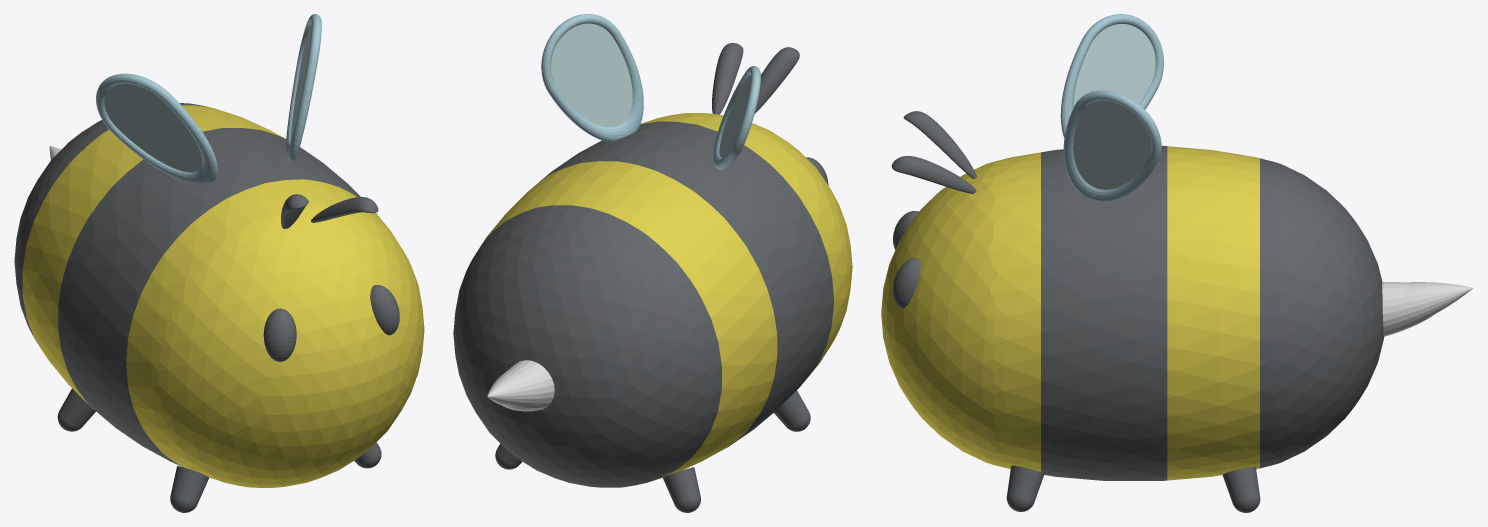
The model's file is bee.glb.
3 renders of one model, left to right at view 1: azimuth 30°, elevation 25°; view 2: azimuth 150°, elevation 25°; view 3: azimuth 270°, elevation 25°, orthographic. The views are drawn at different scales.
Parts seen in each view (by area): view 1: Mesh_Mesh_head_geo.001_lambert2SG.001; view 2: Mesh_Mesh_head_geo.001_lambert2SG.001; view 3: Mesh_Mesh_head_geo.001_lambert2SG.001.
Boxes of the visible parts, left/top/right/bottom form: Mesh_Mesh_head_geo.001_lambert2SG.001: left=14, top=14, right=424, bottom=512; Mesh_Mesh_head_geo.001_lambert2SG.001: left=453, top=14, right=852, bottom=512; Mesh_Mesh_head_geo.001_lambert2SG.001: left=881, top=14, right=1473, bottom=512.
Size of the model in its own units: 20 by 27.35 by 35.21.
